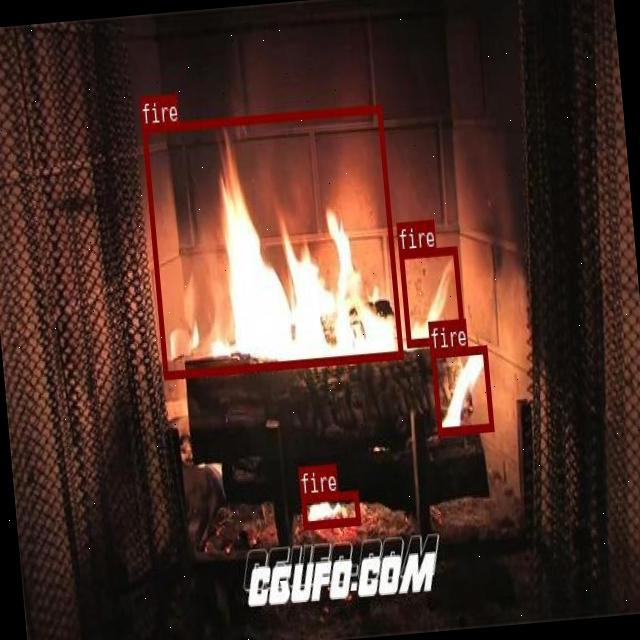fire: (142, 103, 402, 378), (398, 246, 464, 346), (430, 344, 493, 434), (300, 488, 360, 528)
